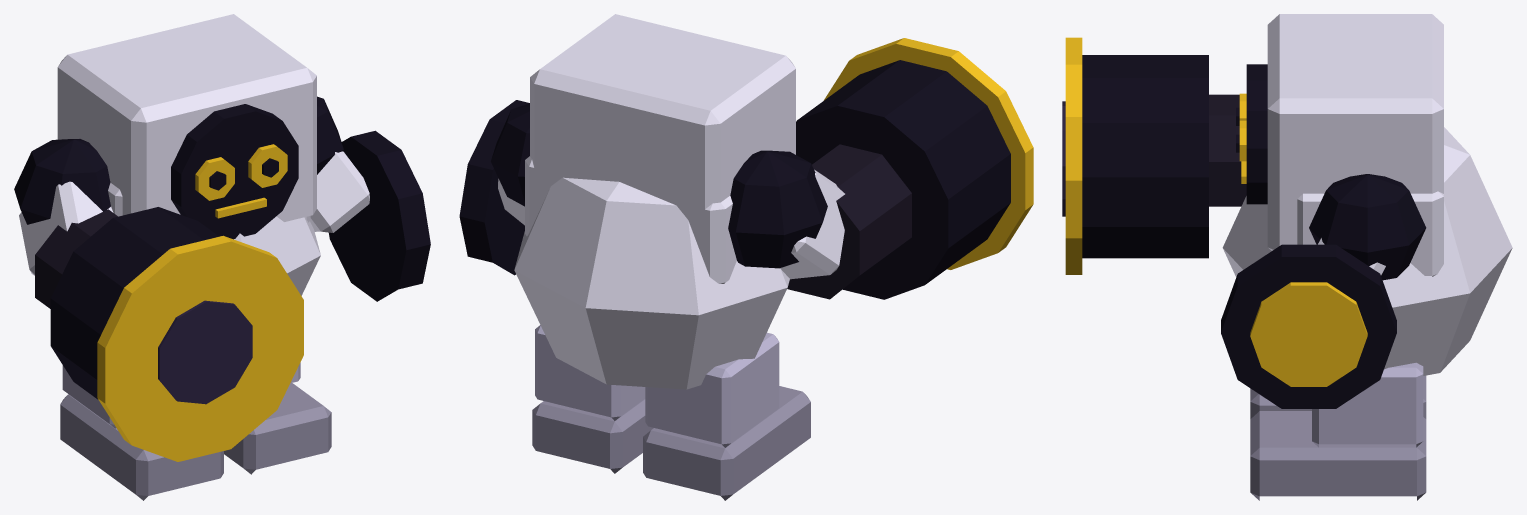
Rendered from r16_mini_eclipse_gunner.glb.
The picture shows the model from 3 angles, left to right: view 1: azimuth 30°, elevation 25°; view 2: azimuth 150°, elevation 25°; view 3: azimuth 270°, elevation 25°; orthographic projection. The views are drawn at different scales.
Visible parts, largest first — view 1: r16_mini_eclipse_gunner_mesh; view 2: r16_mini_eclipse_gunner_mesh; view 3: r16_mini_eclipse_gunner_mesh.
Boxes of the visible parts, left/top/right/bottom form: r16_mini_eclipse_gunner_mesh: left=14, top=14, right=430, bottom=500; r16_mini_eclipse_gunner_mesh: left=459, top=14, right=1033, bottom=500; r16_mini_eclipse_gunner_mesh: left=1062, top=14, right=1512, bottom=500.
Bounding box in the file's own units: 4.21 × 3.8 × 3.89.
Materials: 1 (1 with a texture image).
